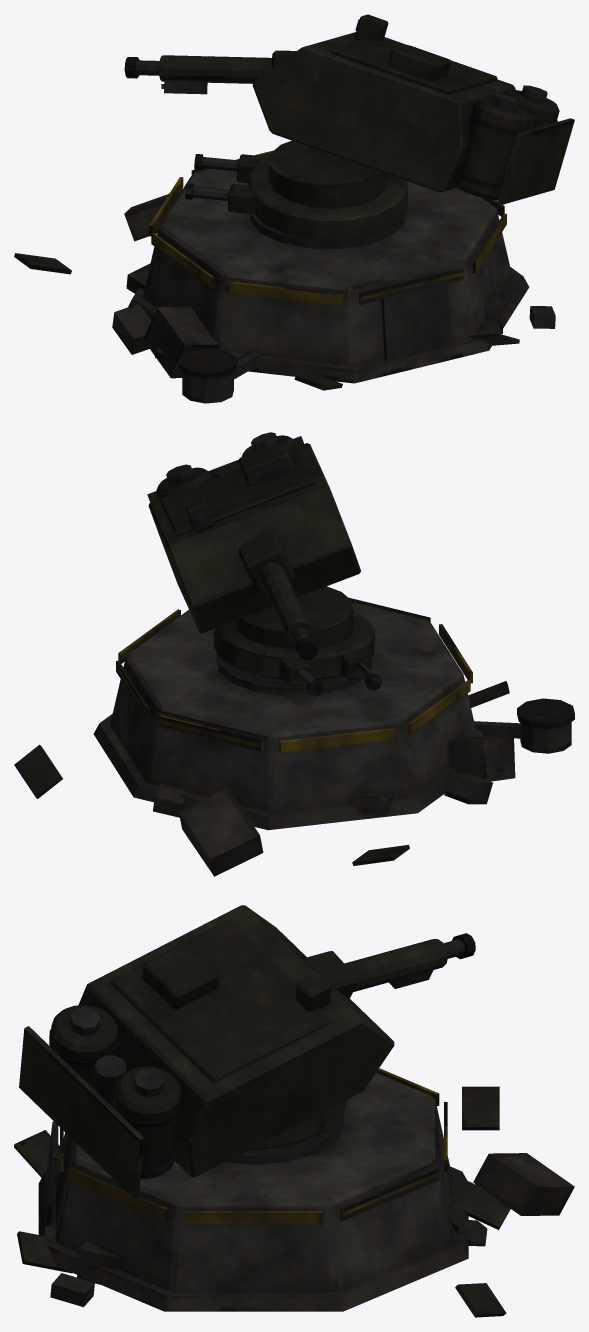
The model's file is ftur-wreck.glb.
3 renders of one model, top to bottom at view 1: azimuth 30°, elevation 25°; view 2: azimuth 150°, elevation 25°; view 3: azimuth 270°, elevation 25°, orthographic. The views are drawn at different scales.
Parts seen in each view (by area): view 1: hull, turret, turret2, barrel; view 2: hull, turret, turret2, barrel; view 3: hull, turret, barrel, turret2.
Boxes of the visible parts, x1,y1,x2,y2 form: hull: (14, 140, 555, 403); turret: (252, 14, 574, 204); turret2: (185, 154, 408, 240); barrel: (124, 50, 296, 94); hull: (14, 586, 574, 876); turret: (147, 432, 360, 633); turret2: (214, 610, 382, 696); barrel: (239, 531, 318, 660); hull: (14, 1068, 574, 1317); turret: (19, 905, 394, 1199); barrel: (303, 933, 475, 998); turret2: (249, 1100, 346, 1149).
Bounding box in the file's own units: 5.7 × 3.78 × 5.93.
Materials: 1 (1 with a texture image).
